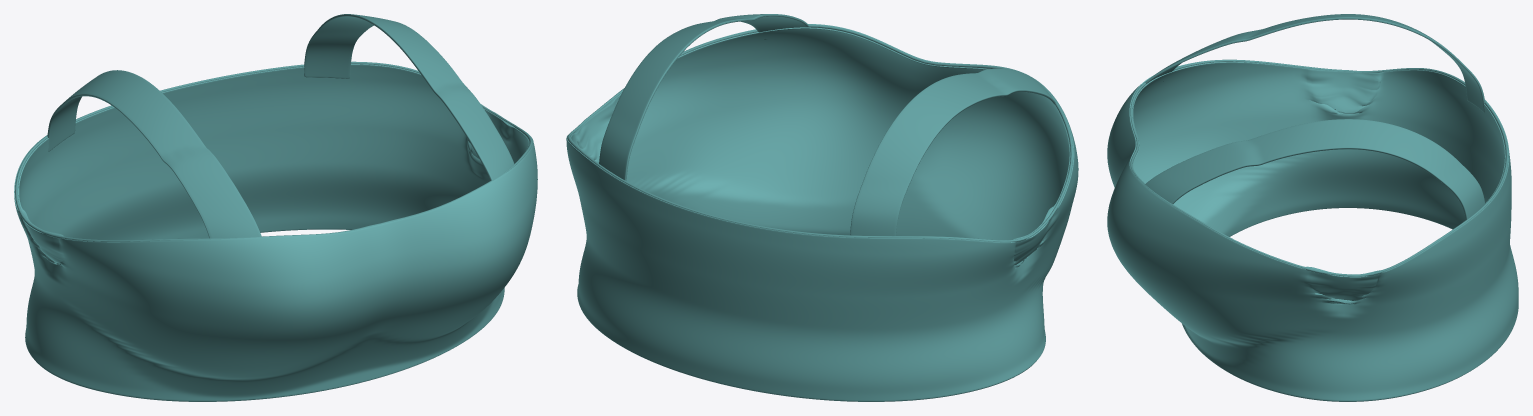
File: Feminine-tank-top.glb
3 views of the same model, side by side, from view 1: azimuth 30°, elevation 25°; view 2: azimuth 150°, elevation 25°; view 3: azimuth 270°, elevation 25° (orthographic). The views are drawn at different scales.
Visible parts, largest first — view 1: Clothing / tank body, Clothing / Tank seated shoulder strap -1, Clothing / Tank seated shoulder strap 1, tank body / bound edge.001 export, tank body / bound edge export; view 2: Clothing / tank body, Clothing / Tank seated shoulder strap -1, Clothing / Tank seated shoulder strap 1, tank body / bound edge.001 export, tank body / bound edge export; view 3: Clothing / tank body, Clothing / Tank seated shoulder strap 1, Clothing / Tank seated shoulder strap -1, tank body / bound edge.001 export.
Part boxes in pixels (bbox=[...]): Clothing / tank body: bbox=[14, 64, 537, 401]; Clothing / Tank seated shoulder strap -1: bbox=[47, 70, 261, 238]; Clothing / Tank seated shoulder strap 1: bbox=[304, 14, 514, 180]; tank body / bound edge.001 export: bbox=[15, 61, 532, 241]; tank body / bound edge export: bbox=[36, 229, 435, 401]; Clothing / tank body: bbox=[566, 24, 1078, 401]; Clothing / Tank seated shoulder strap -1: bbox=[850, 68, 1055, 236]; Clothing / Tank seated shoulder strap 1: bbox=[599, 14, 808, 180]; tank body / bound edge.001 export: bbox=[567, 24, 1073, 242]; tank body / bound edge export: bbox=[644, 358, 1036, 401]; Clothing / tank body: bbox=[1107, 60, 1518, 400]; Clothing / Tank seated shoulder strap 1: bbox=[1145, 119, 1485, 219]; Clothing / Tank seated shoulder strap -1: bbox=[1145, 14, 1485, 112]; tank body / bound edge.001 export: bbox=[1130, 59, 1508, 276].
Bounding box in the file's own units: 0.6426 × 0.3439 × 0.5425.
